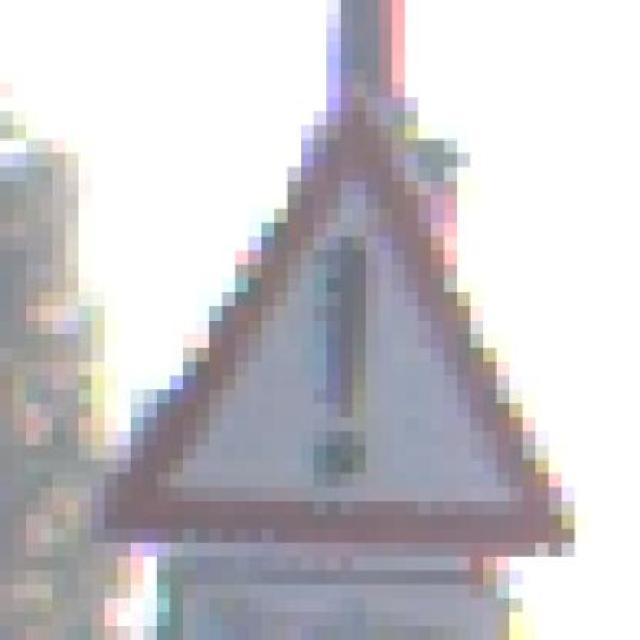Attention Please-: (39, 69, 575, 585)
